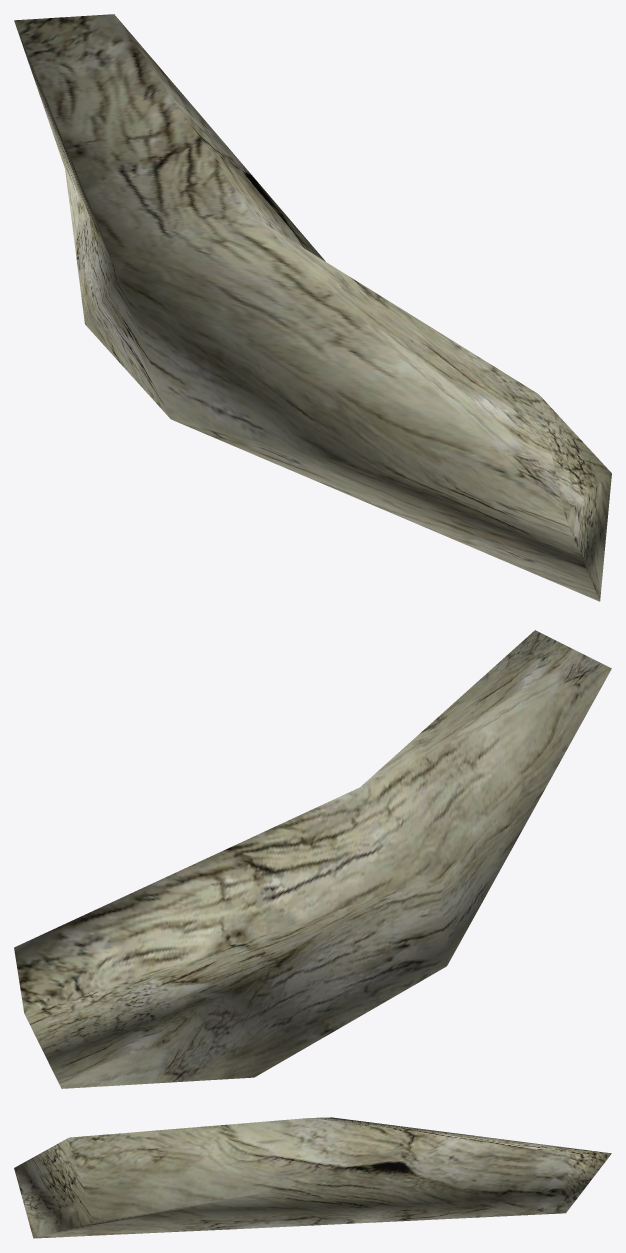
File: shor_driftwood_massassi_sm_a1_l1.fbx
3 views of the same model, one above another, from view 1: azimuth 30°, elevation 25°; view 2: azimuth 150°, elevation 25°; view 3: azimuth 270°, elevation 25° (orthographic). The views are drawn at different scales.
Parts seen in each view (by area): view 1: mesh_node; view 2: mesh_node; view 3: mesh_node.
Part boxes in pixels (<box>): mesh_node: <box>14,14,611,601</box>; mesh_node: <box>14,630,611,1088</box>; mesh_node: <box>14,1117,611,1238</box>.
Size of the model in its own units: 0.5537 by 0.4254 by 2.24.
